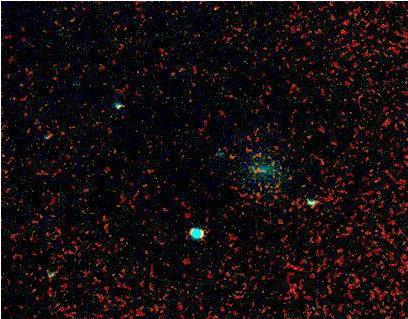star: (218, 143, 248, 173)
